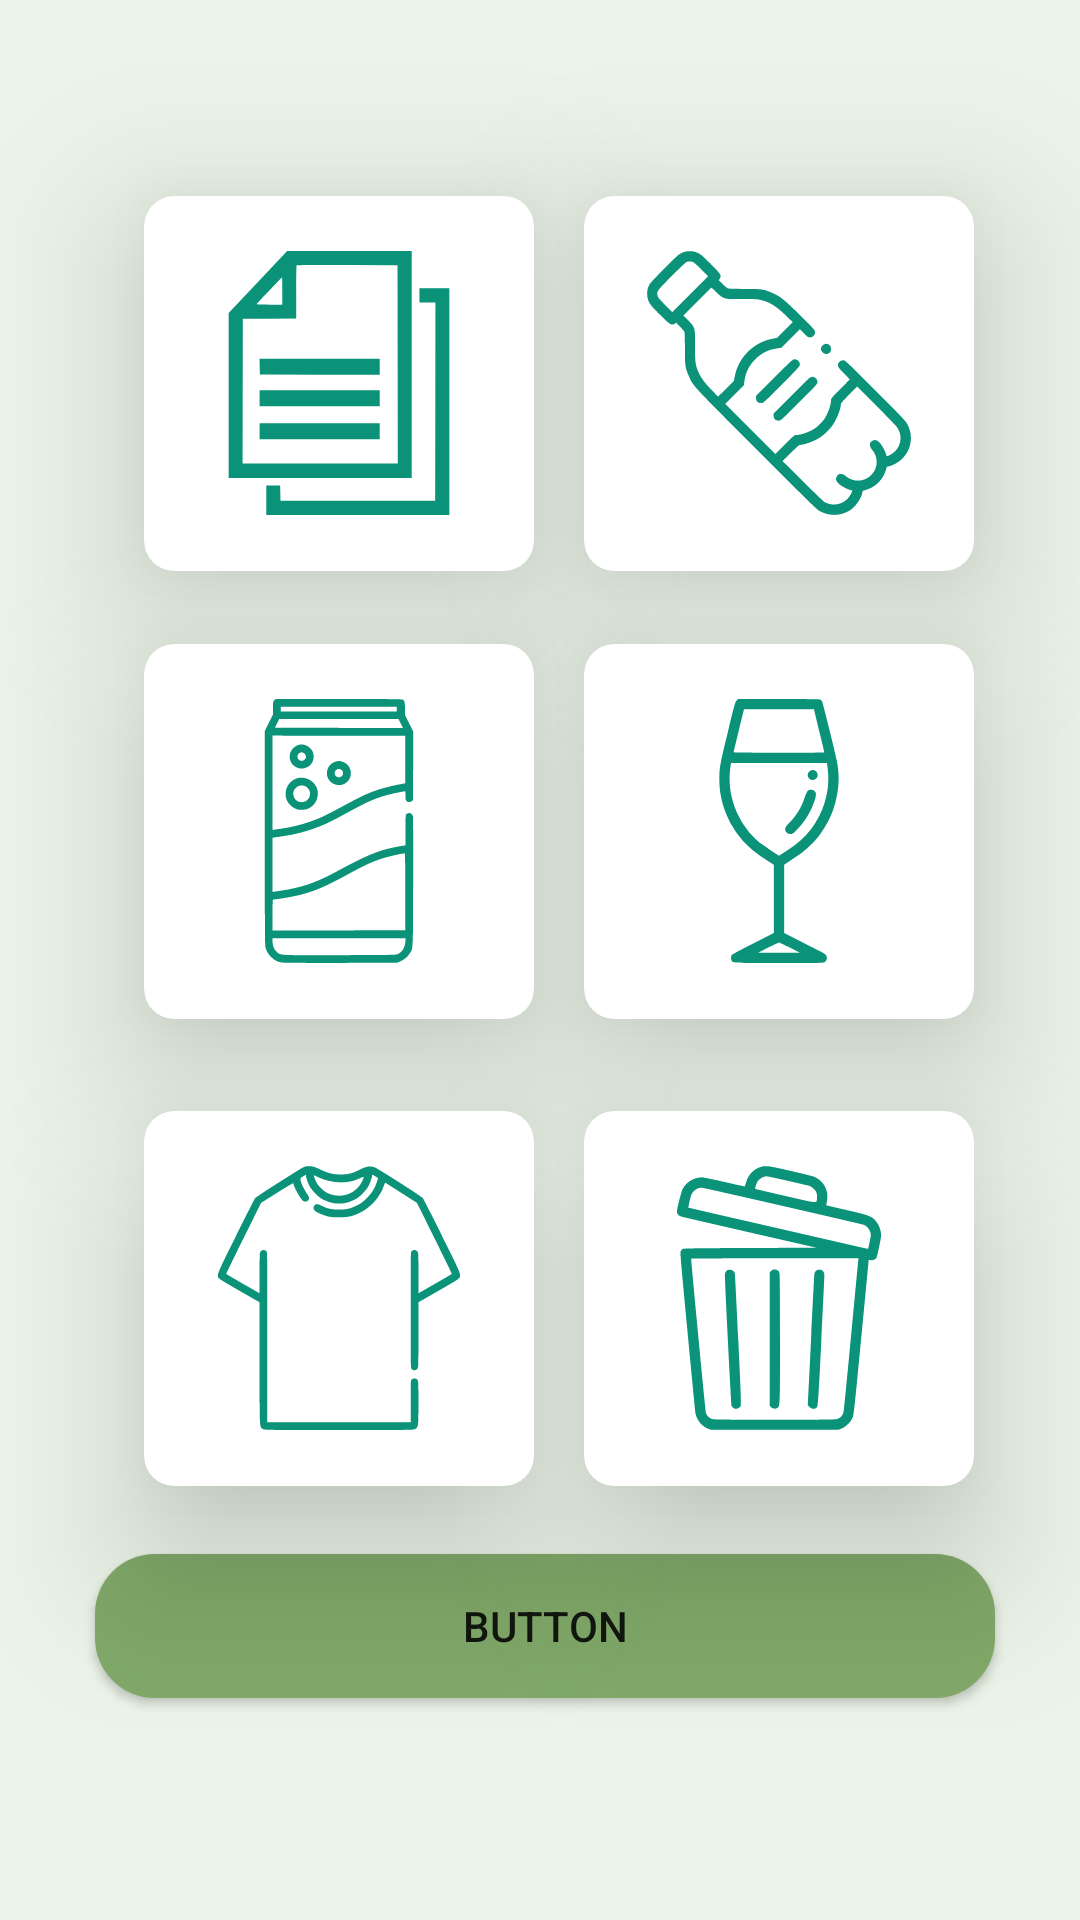

Icons on this 1080*1920 Android screen, each with the point to tap as (x=x, y=y):
paper: (x=339, y=383)
plastic bottle: (x=779, y=383)
recycle bin: (x=779, y=1298)
soda can: (x=339, y=831)
tshirt: (x=338, y=1298)
wine: (x=779, y=831)
